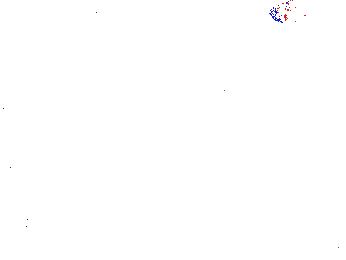X-ray fish: (173, 34, 210, 62), (268, 1, 308, 24)
